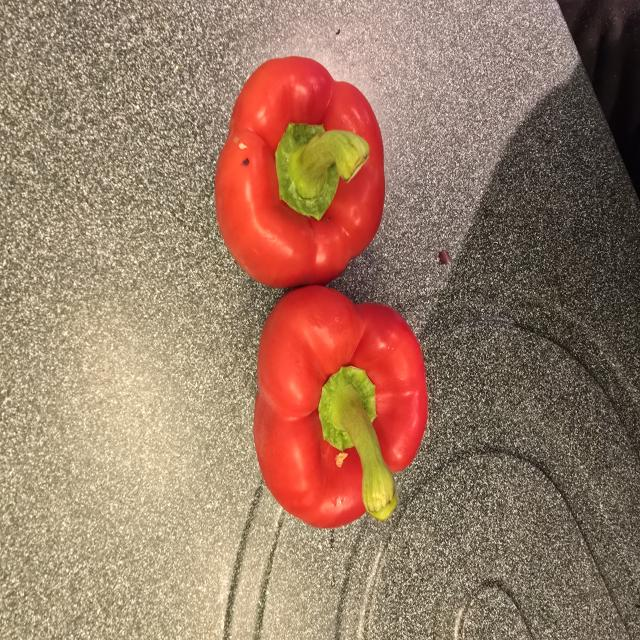Bell Pepper: (248, 281, 434, 537), (209, 46, 391, 294)
